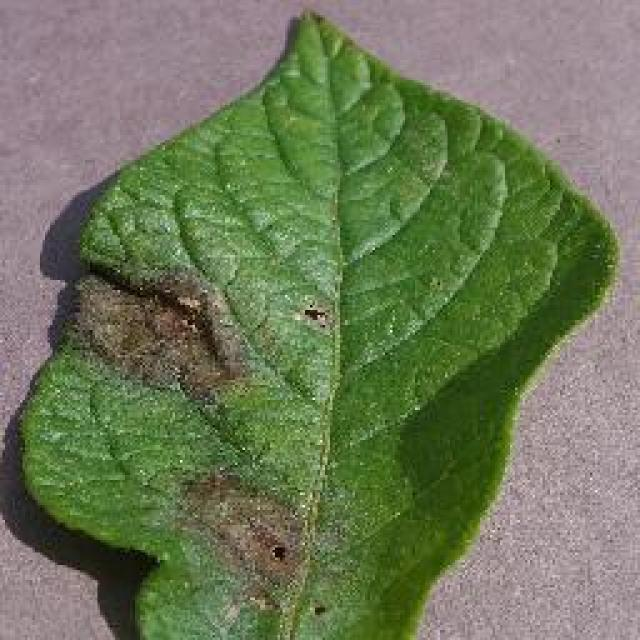late_blight: (15, 5, 623, 637)
